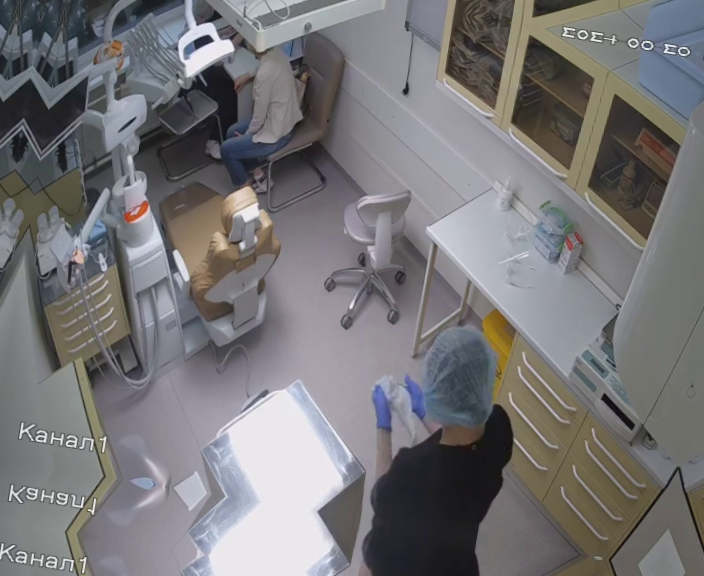Empty: (139, 167, 292, 353)
